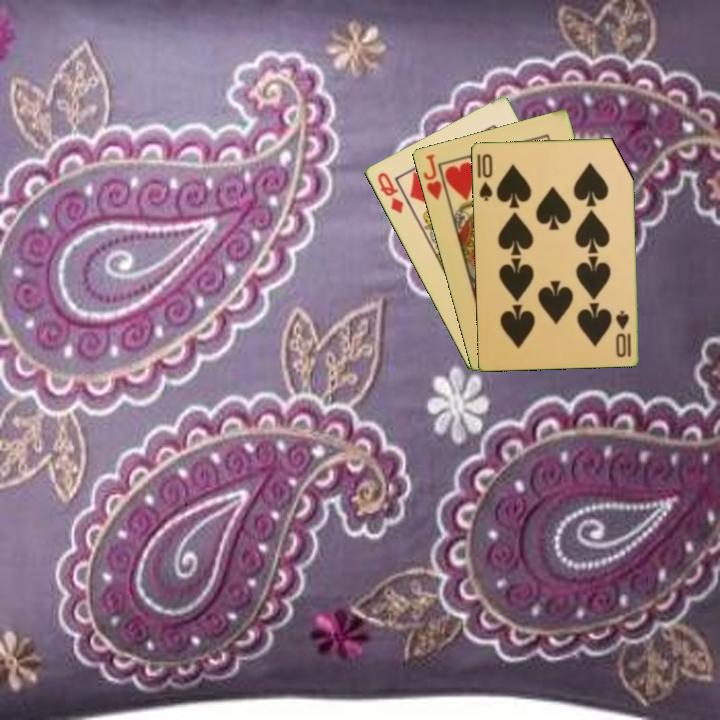10s: (612, 307, 634, 360), (475, 150, 495, 204)
Jh: (419, 150, 444, 203)
Qd: (373, 169, 406, 216)
